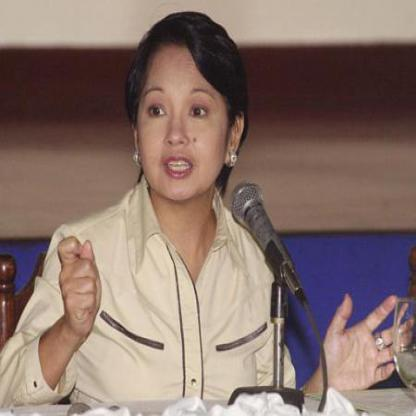face: (135, 19, 235, 206)
